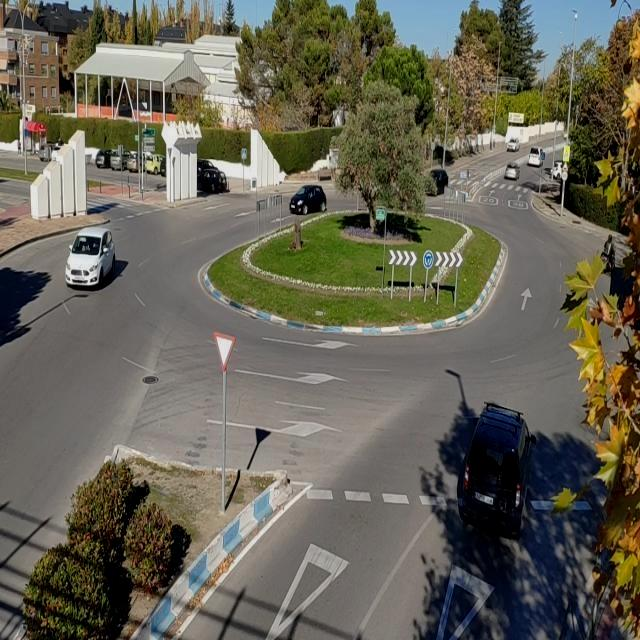Car: (440, 396, 549, 530), (55, 224, 125, 304), (284, 176, 328, 221), (200, 166, 244, 200), (422, 162, 455, 194), (545, 153, 572, 189), (498, 157, 526, 183), (524, 143, 548, 169), (502, 136, 525, 156)
